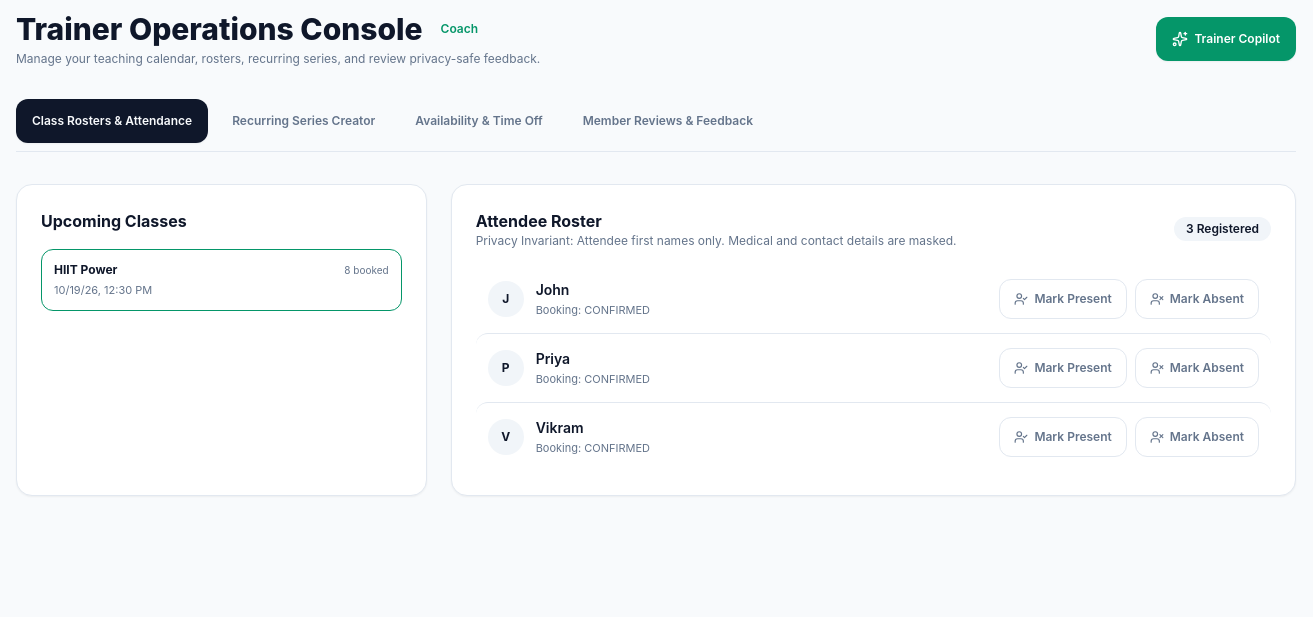
Test: Consoles & Privacy Components › allows clicking attendee Present and Absent buttons in TrainerConsole
Expected: the text "John" is shown, [536,281,570,298]
Click the button "Mark Present" in the row of "John" at (1063, 299), box [999,279,1127,319]
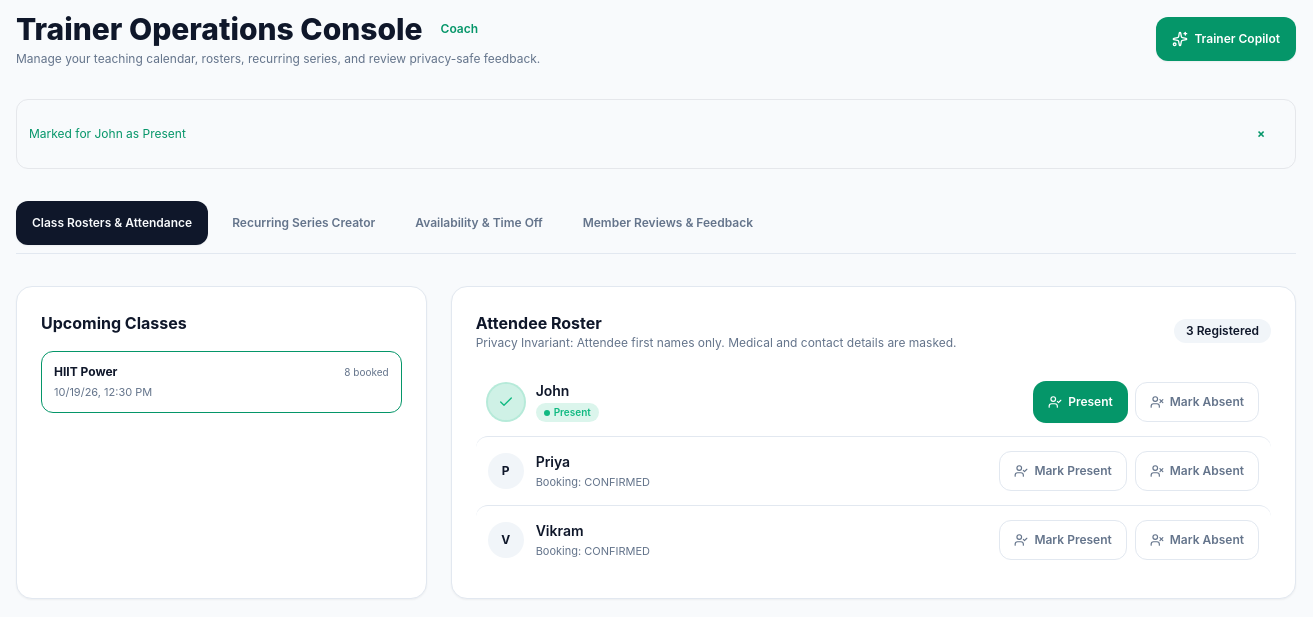
Expected: the 1st button "Mark Absent" is shown, [1135,382,1259,422]
Expected: the text "Marked for John as Present" is shown, [29,126,186,142]
Click the button "Mark Absent" in the row of "Priya" at (1197, 471), box [1135,451,1259,491]
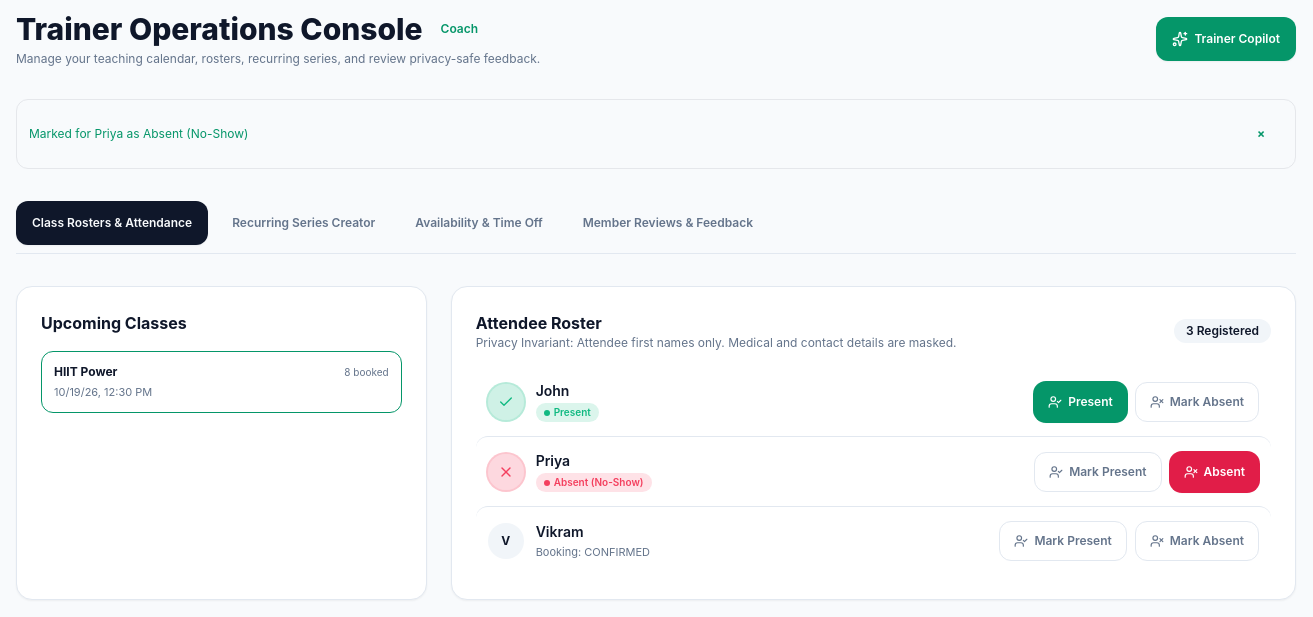
Expected: the text "Marked for Priya as Absent (No-Show)" is shown, [29,126,248,142]
